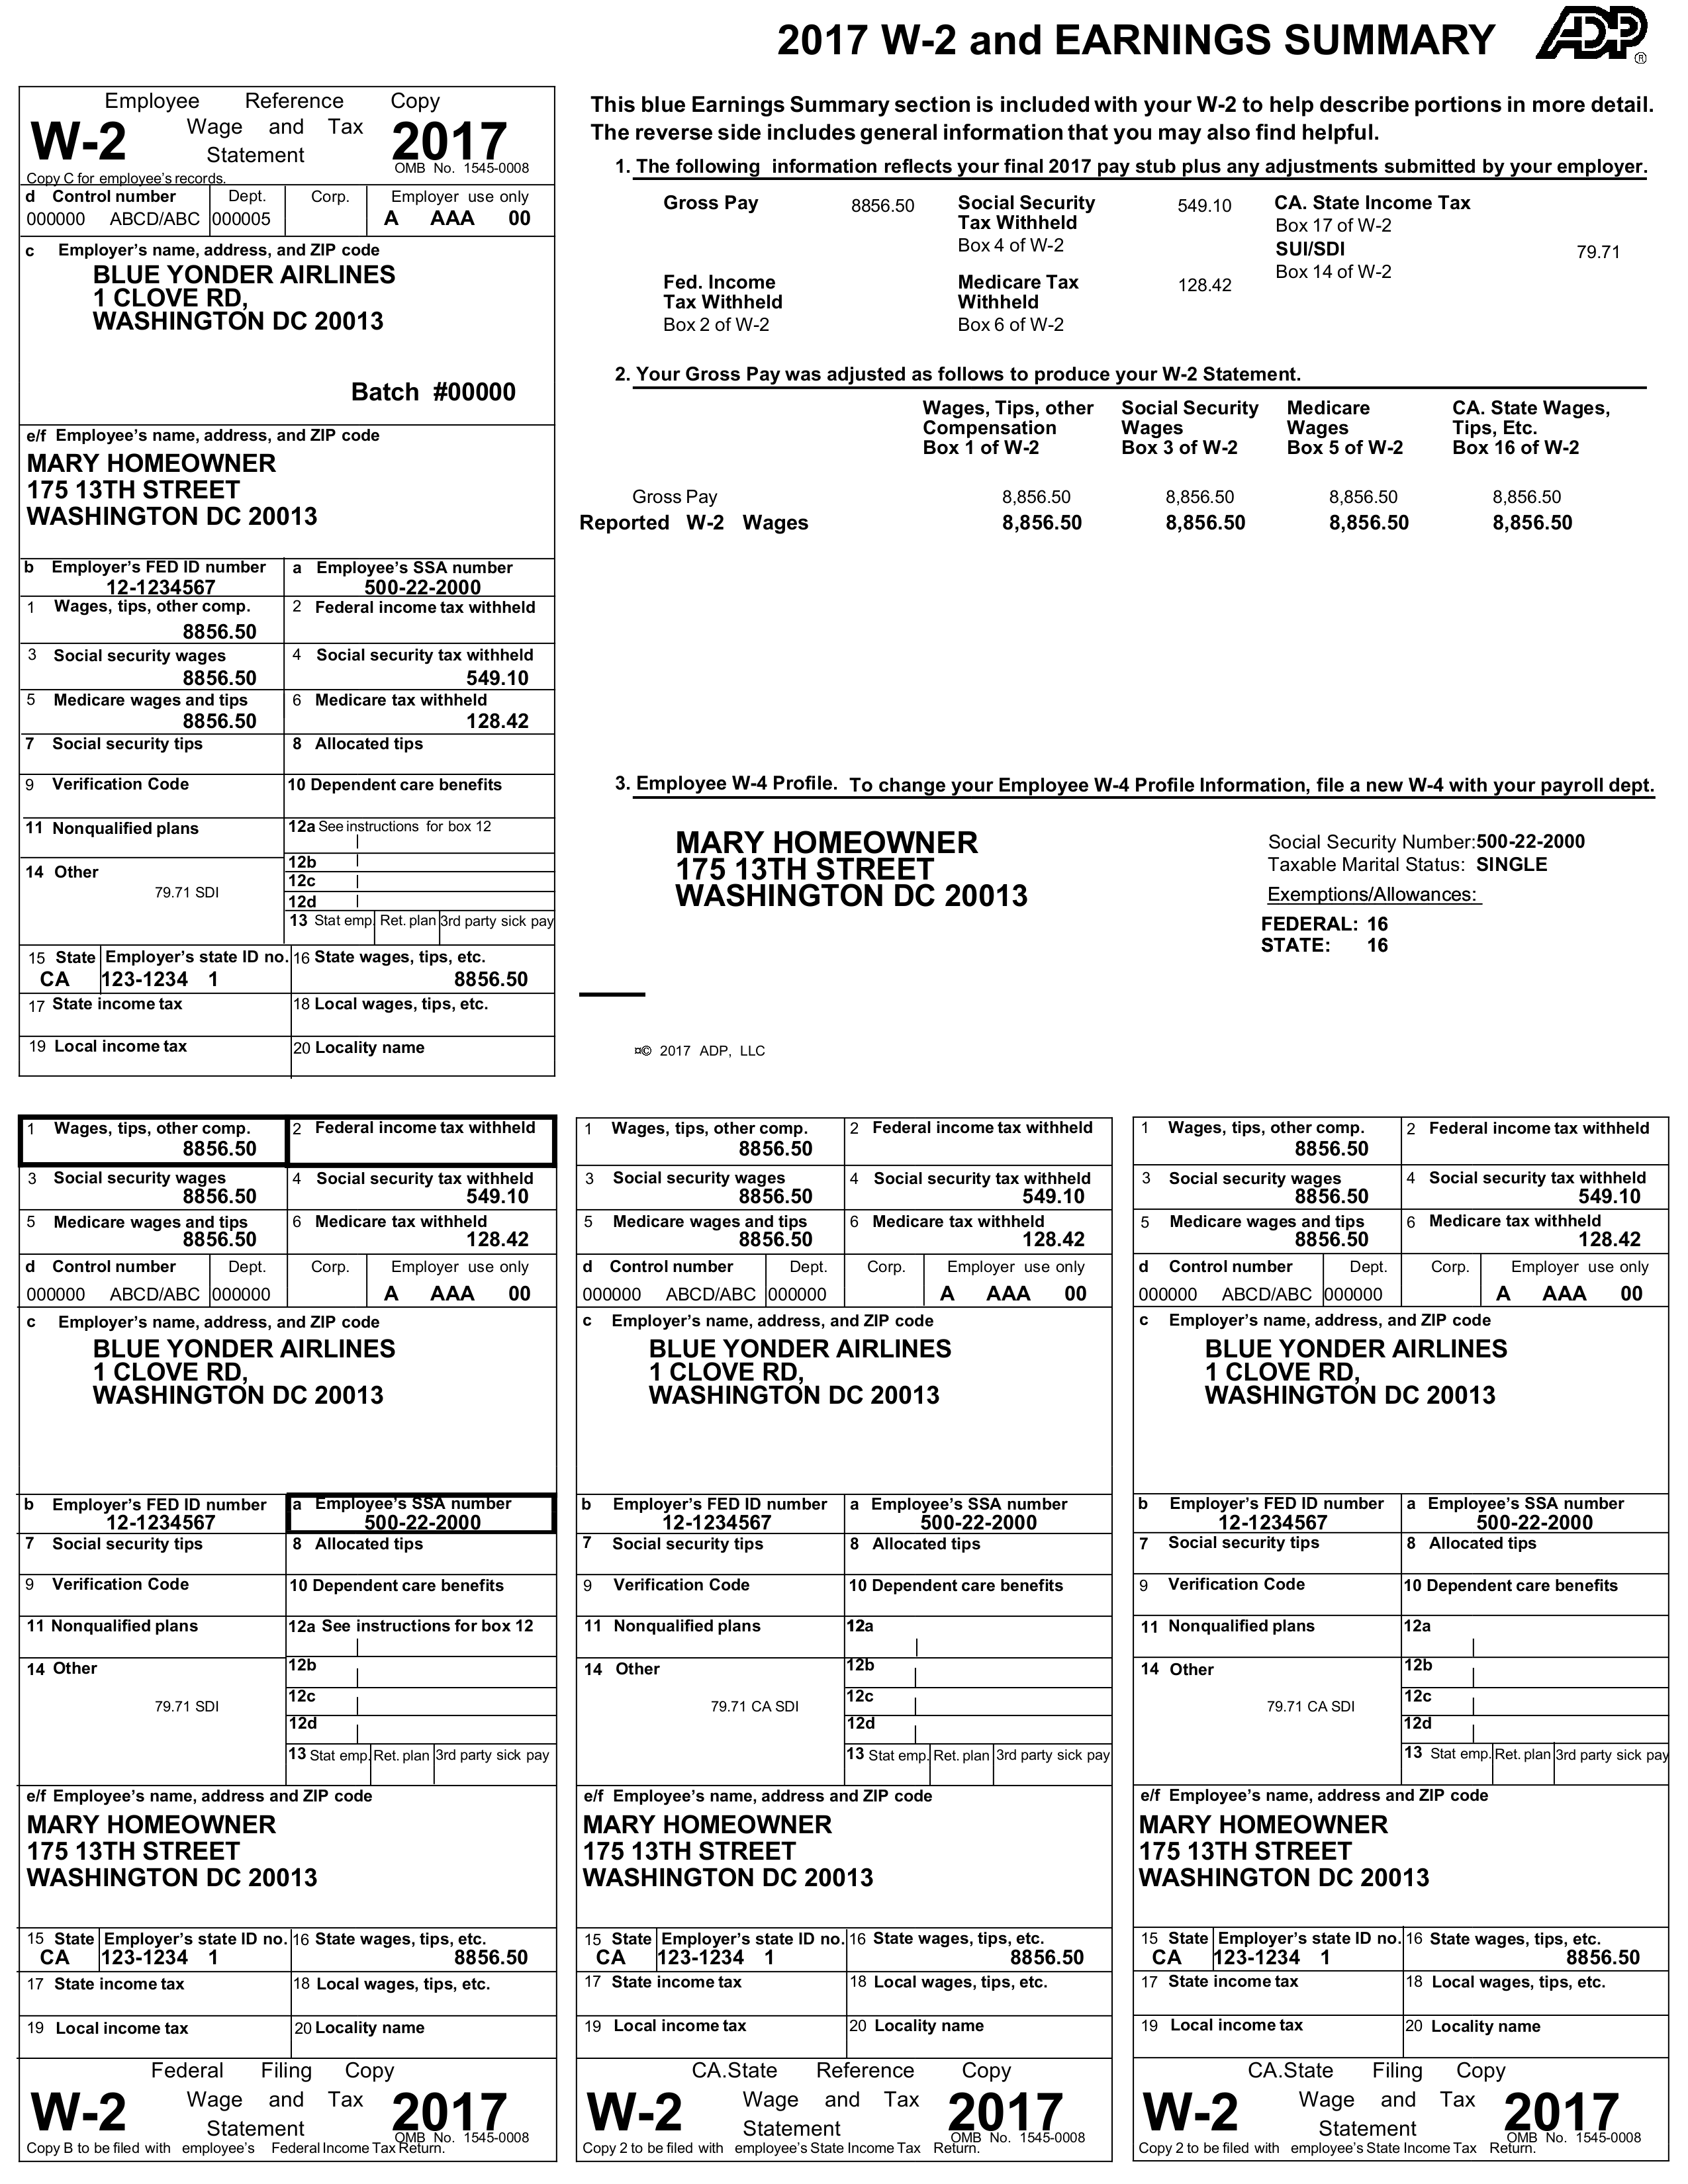table: (1129, 1115, 1670, 2164), (18, 1113, 557, 2163), (574, 1115, 1114, 2163), (20, 85, 555, 1076)
